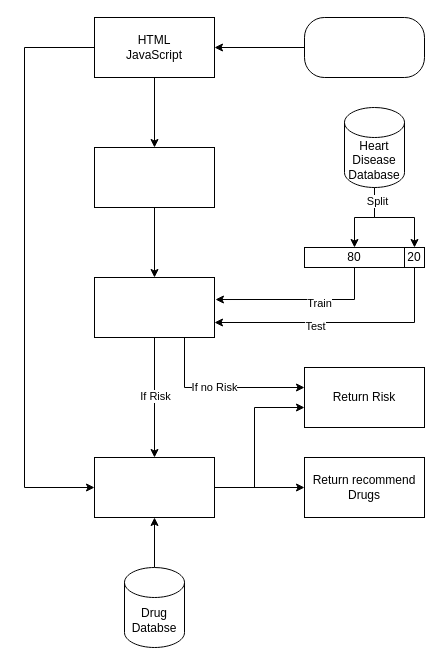
Some shapes in this 442 by 665 pixel diagram are drawn without their labels. The centre of each missing label's shape, as x and y in pixels:
"Flask Server python" goes at pixel 154 177.
"Recommendations based on input" goes at pixel 154 487.
"User Input (Smoking, BMI, ...)" goes at pixel 364 47.
"Working Model" goes at pixel 154 307.
